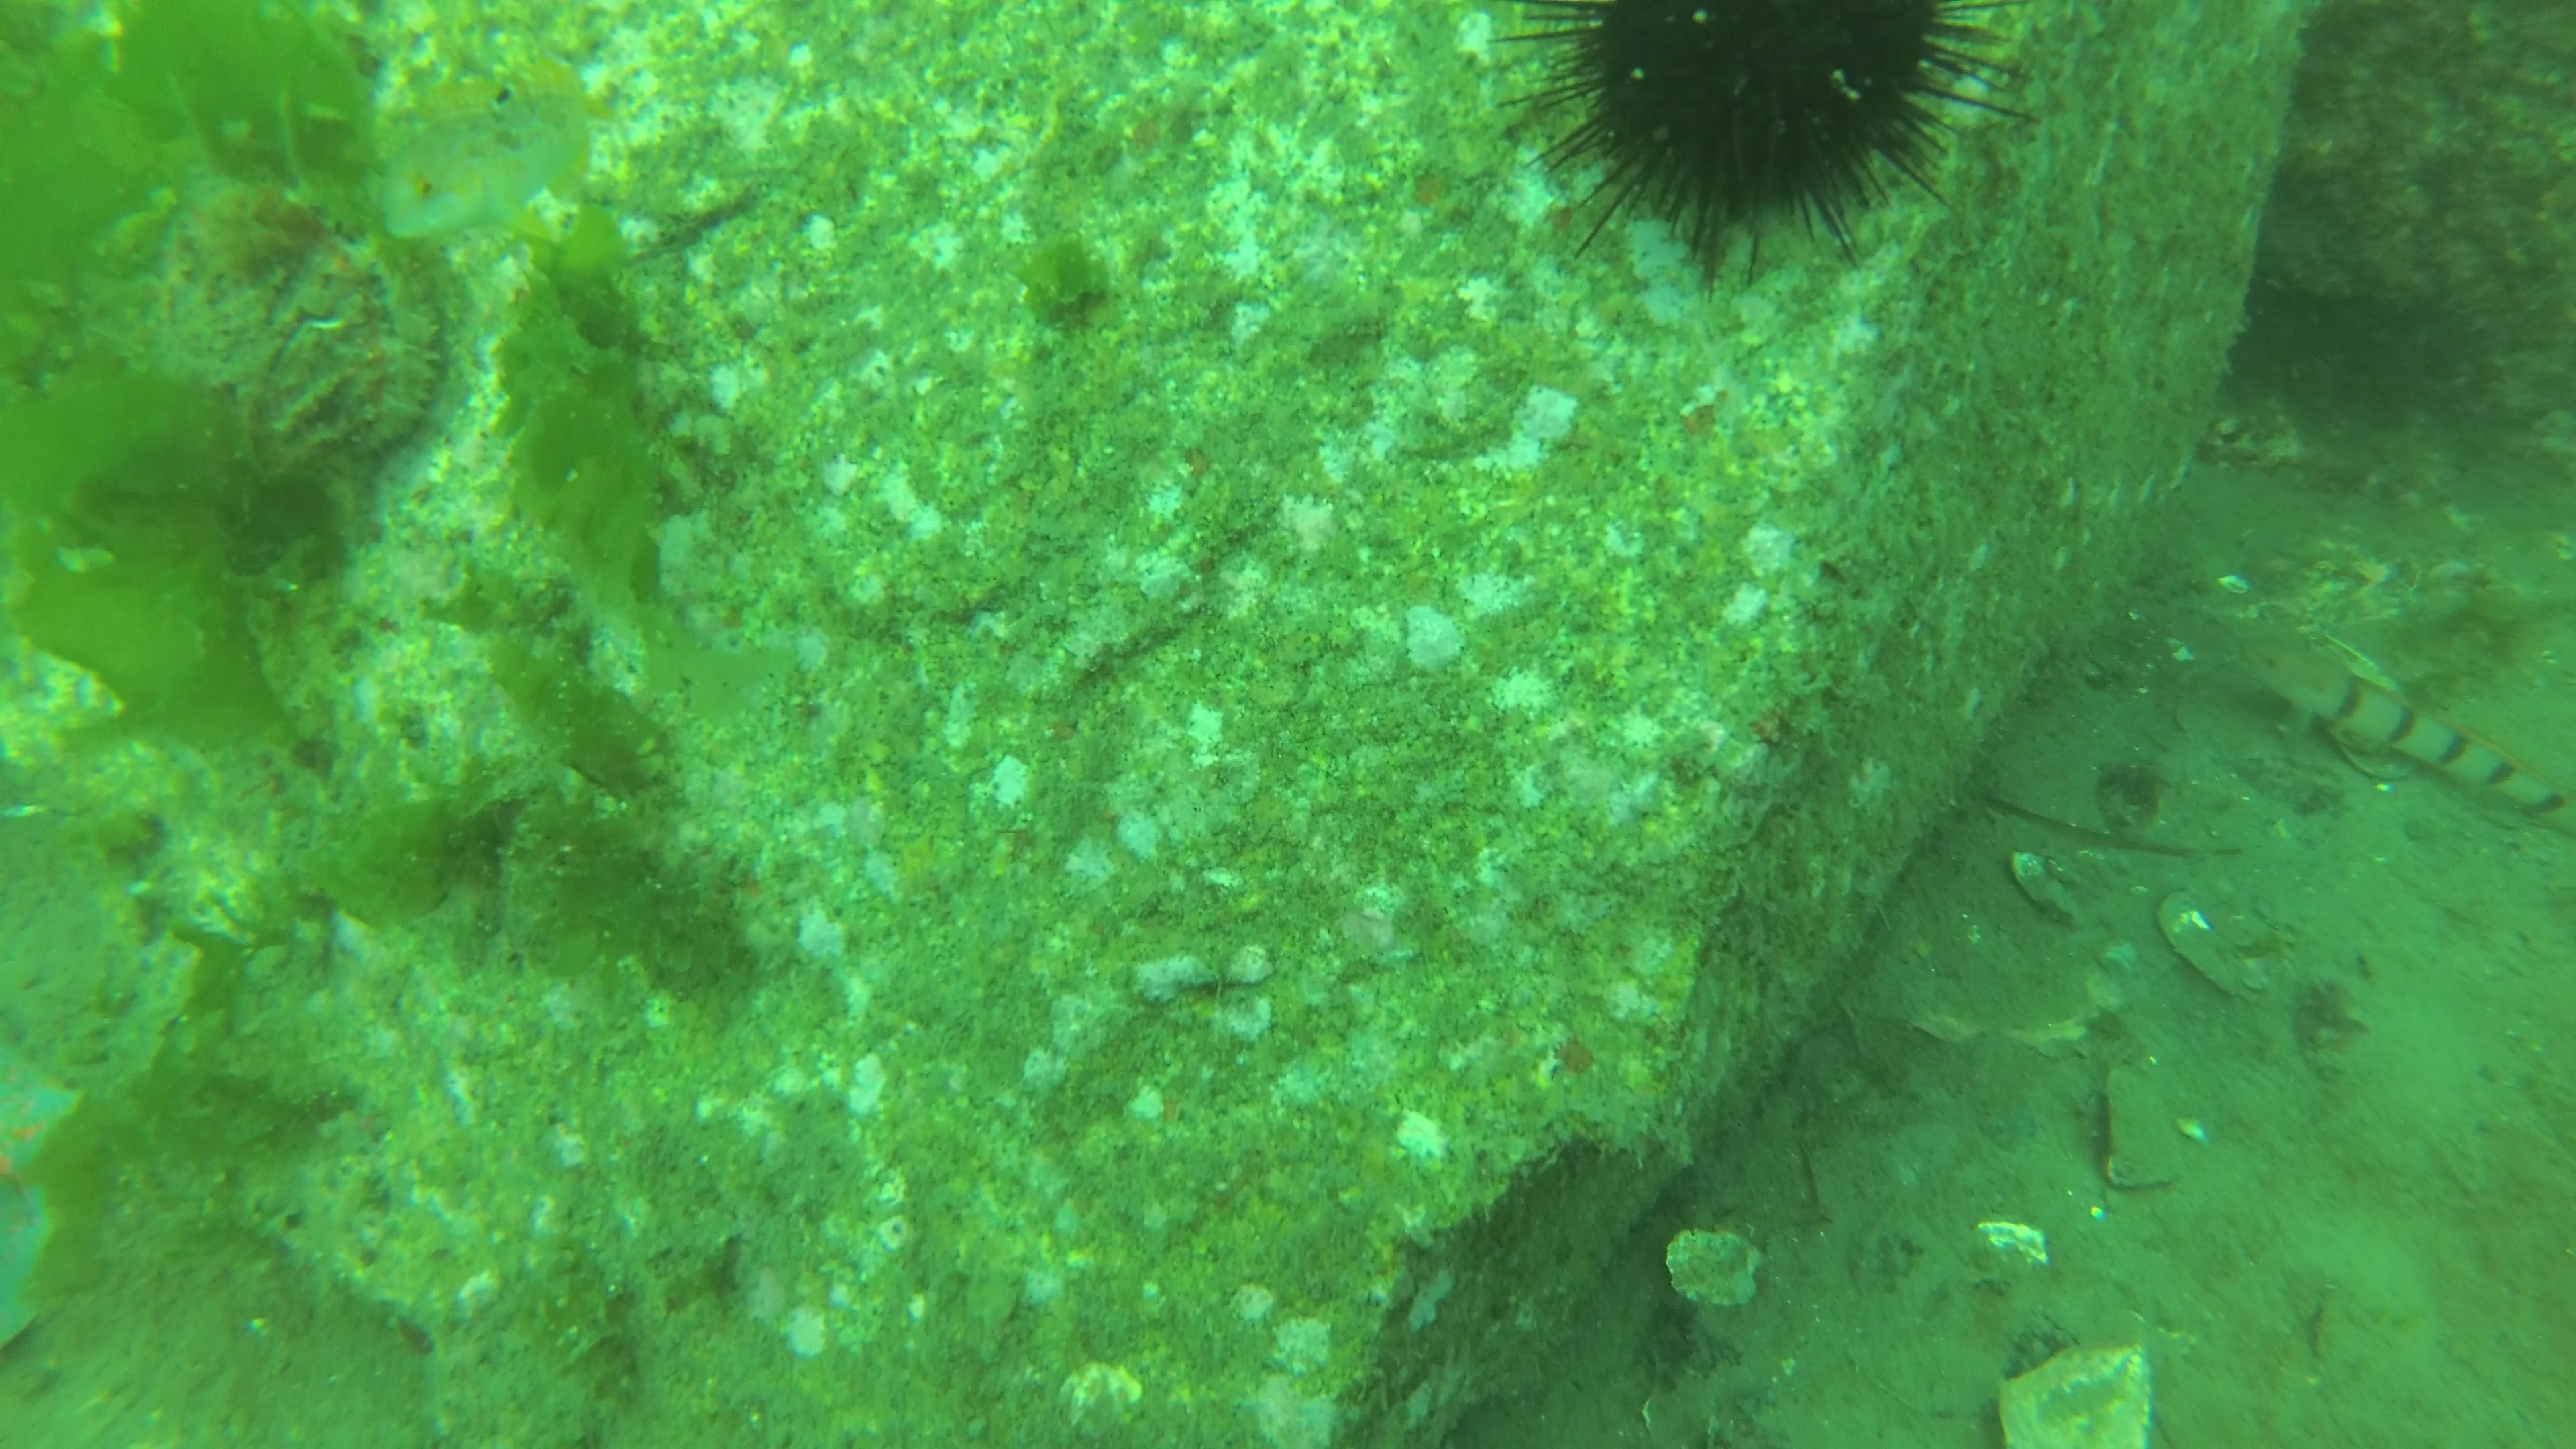echinus: (1486, 0, 2033, 297)
starfish: (0, 1049, 85, 1352)
